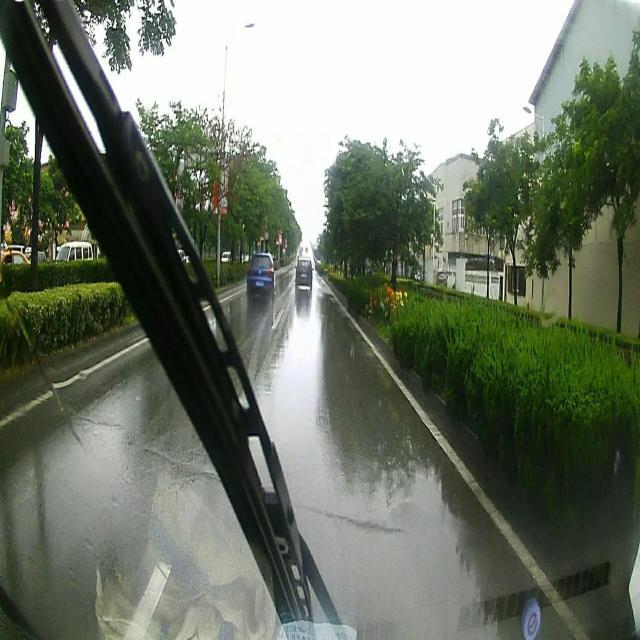car: (247, 257, 274, 300), (58, 242, 93, 266), (293, 253, 313, 290), (0, 242, 30, 264), (222, 246, 232, 262)
